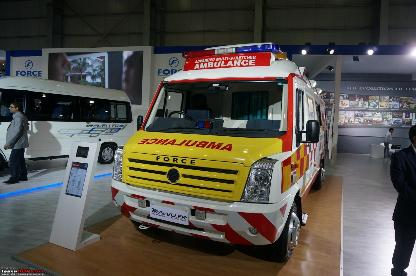priority: (107, 37, 338, 260)
